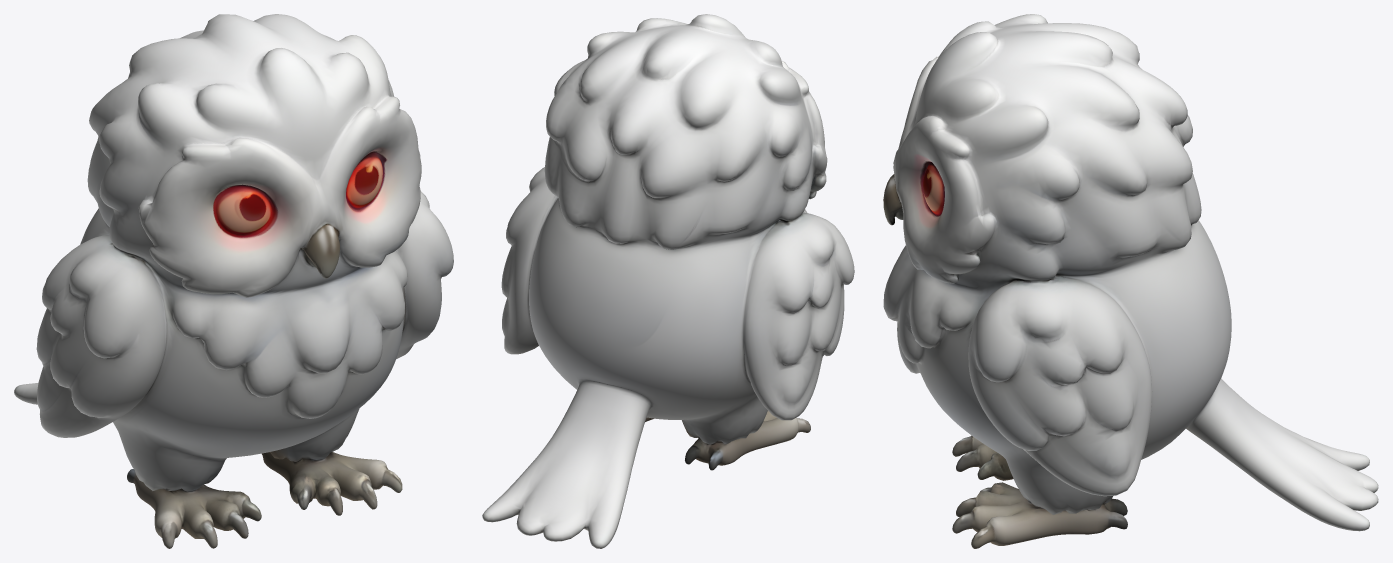
File: base_basic_pbr.glb
The picture shows the model from 3 angles, left to right: view 1: azimuth 30°, elevation 25°; view 2: azimuth 150°, elevation 25°; view 3: azimuth 270°, elevation 25°; orthographic projection. The views are drawn at different scales.
Parts seen in each view (by area): view 1: model; view 2: model; view 3: model.
Boxes of the visible parts, left/top/right/bottom form: model: left=14, top=14, right=453, bottom=548; model: left=482, top=14, right=854, bottom=548; model: left=883, top=14, right=1378, bottom=548.
Size of the model in its own units: 1.48 by 1.81 by 1.75.
Materials: 1 (1 with a texture image).
